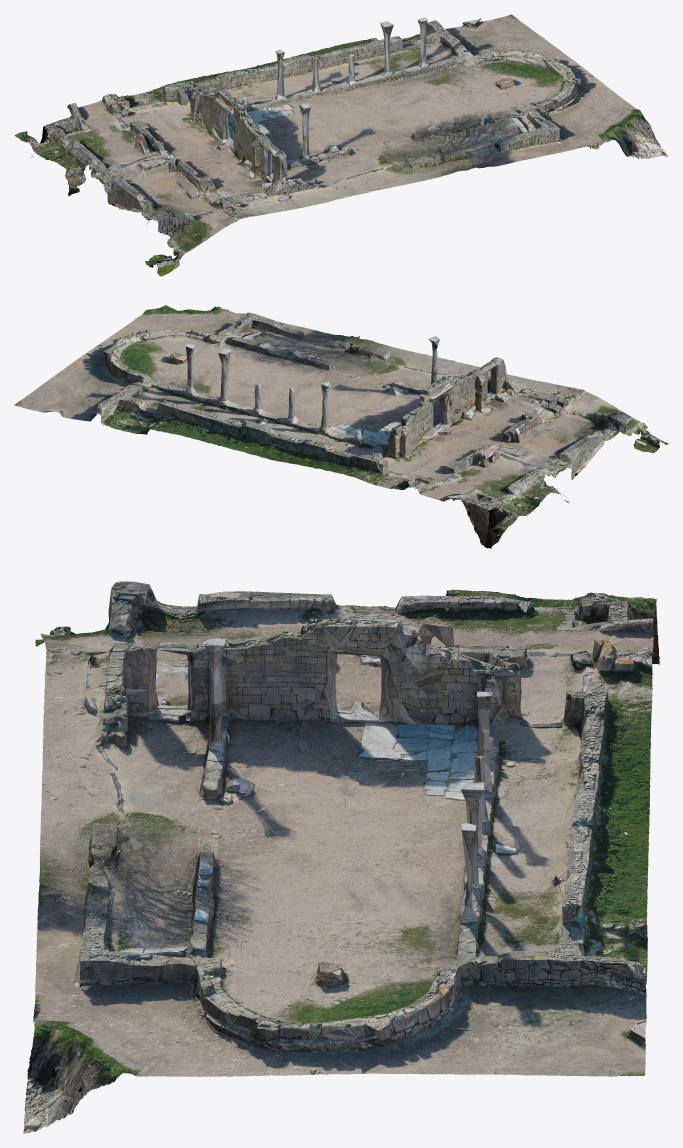
File: B1935_Photogramm1.gltf
3 views of the same model, one above another, from view 1: azimuth 30°, elevation 25°; view 2: azimuth 150°, elevation 25°; view 3: azimuth 270°, elevation 25° (orthographic). The views are drawn at different scales.
Parts seen in each view (by area): view 1: Model-material0, Model-material1, Model-material2, Model-material3; view 2: Model-material0, Model-material3, Model-material2, Model-material1; view 3: Model-material3, Model-material0, Model-material1, Model-material2.
Part boxes in pixels (x1,y1,x2,y2): Model-material0: [43, 17, 668, 237]; Model-material1: [14, 35, 625, 276]; Model-material2: [38, 18, 507, 236]; Model-material3: [60, 14, 608, 259]; Model-material0: [47, 305, 616, 548]; Model-material3: [14, 308, 647, 548]; Model-material2: [59, 336, 632, 513]; Model-material1: [111, 312, 668, 550]; Model-material3: [34, 597, 653, 1076]; Model-material0: [23, 589, 652, 1133]; Model-material1: [33, 592, 659, 1076]; Model-material2: [39, 581, 651, 1045].
Size of the model in its own units: 42.31 by 7.52 by 23.13.
4 materials, 4 textured.
